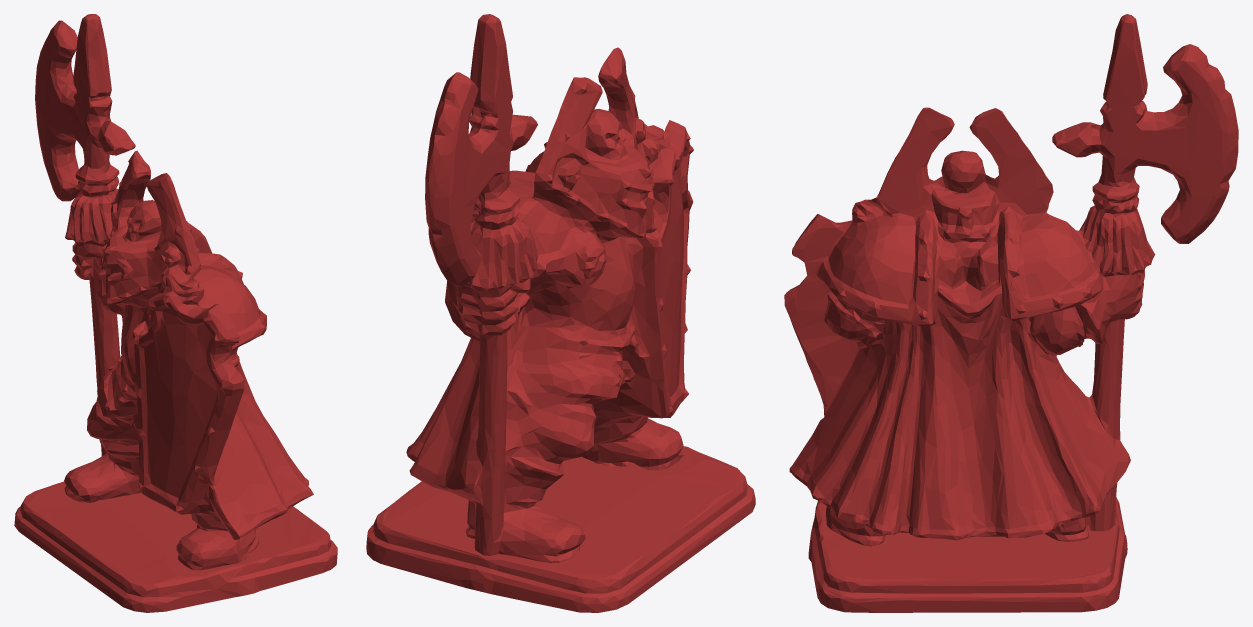
Rendered from chaos_warrior.glb.
3 views of the same model, side by side, from view 1: azimuth 30°, elevation 25°; view 2: azimuth 150°, elevation 25°; view 3: azimuth 270°, elevation 25° (orthographic). The views are drawn at different scales.
Parts seen in each view (by area): view 1: chaos_warriors_chaos_army; view 2: chaos_warriors_chaos_army; view 3: chaos_warriors_chaos_army.
Boxes of the visible parts, x1=… form: chaos_warriors_chaos_army: x1=14, y1=14, x2=337, y2=612; chaos_warriors_chaos_army: x1=366, y1=14, x2=755, y2=612; chaos_warriors_chaos_army: x1=784, y1=14, x2=1238, y2=612.
Size of the model in its own units: 12.55 by 26.92 by 20.79.
